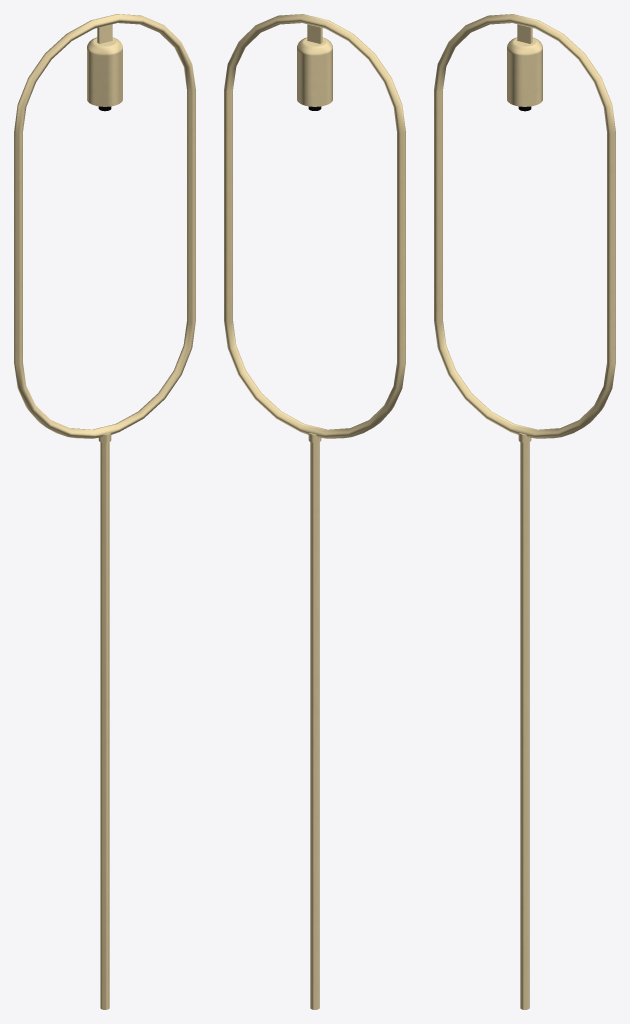
The model's file is InverseStandGold.glb.
3 renders of one model, left to right at view 1: azimuth 30°, elevation 25°; view 2: azimuth 150°, elevation 25°; view 3: azimuth 330°, elevation 25°, orthographic.
Visible parts, largest first — view 1: Stand; view 2: Stand; view 3: Stand.
Boxes of the visible parts, x1,y1,x2,y2 form: Stand: (14,14,195,1009); Stand: (224,14,405,1009); Stand: (434,14,615,1009).
Bounding box in the file's own units: 0.0591 × 0.3094 × 0.0103.
4 materials, 1 textured.
